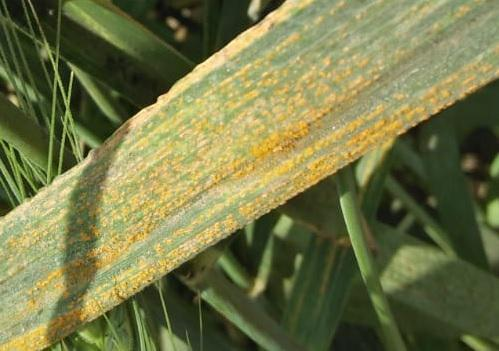Wheat: (246, 35, 455, 217), (94, 71, 241, 319)
